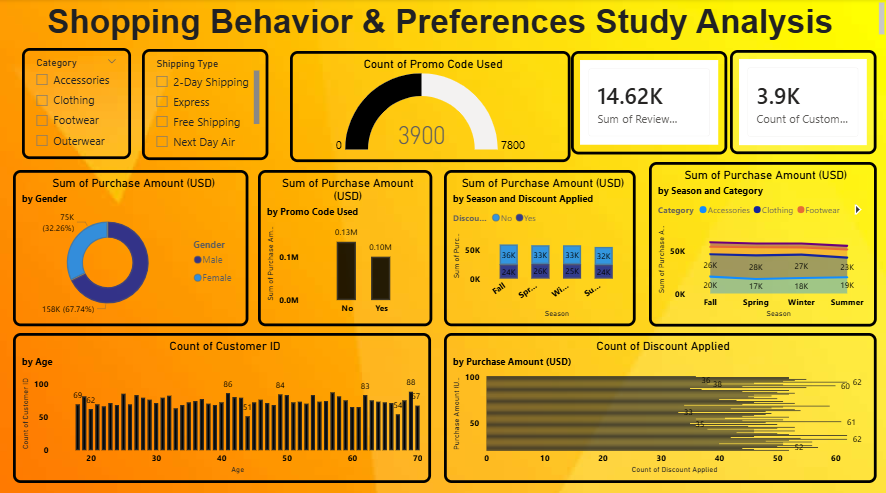

This screenshot's page, from the dashboard's own definition file:
{"tool":"powerbi","page":{"name":"Page 1","canvas":[1280,720],"ordinal":0},"visuals":[{"type":"textbox","box":[0,0,1280,73.5],"z":0},{"type":"cardVisual","fields":{"Data":["CountNonNull(shopping.Customer ID)"]},"box":[1053.1,73.5,210.9,150.2],"z":1000},{"type":"cardVisual","fields":{"Data":["Sum(shopping.Review Rating)"]},"box":[823,75.1,225.3,148.6],"z":2000},{"type":"columnChart","fields":{"Category":["shopping.Age"],"Y":["CountNonNull(shopping.Customer ID)"]},"box":[20.8,481,602.4,215.7],"z":3000},{"type":"donutChart","fields":{"Category":["shopping.Gender"],"Y":["Sum(shopping.Purchase Amount (USD))"]},"box":[20.8,246.1,338.8,225.3],"z":3001},{"type":"barChart","fields":{"Y":["CountNonNull(shopping.Discount Applied)"],"Category":["shopping.Purchase Amount (USD)"]},"box":[640.8,481,623.2,215.7],"z":3002},{"type":"columnChart","fields":{"Category":["shopping.Promo Code Used"],"Y":["Sum(shopping.Purchase Amount (USD))"]},"box":[372.3,246.1,250.9,225.3],"z":3003},{"type":"stackedAreaChart","fields":{"Category":["shopping.Season"],"Y":["Sum(shopping.Purchase Amount (USD))"],"Series":["shopping.Category"]},"box":[936.4,234.9,327.6,236.5],"z":3004},{"type":"ribbonChart","fields":{"Series":["shopping.Discount Applied"],"Category":["shopping.Season"],"Y":["Sum(shopping.Purchase Amount (USD))"]},"box":[640.8,246.1,276.5,225.3],"z":3005},{"type":"slicer","fields":{"Values":["shopping.Category"]},"box":[33.6,70.3,156.6,159.8],"z":3006},{"type":"gauge","fields":{"Y":["CountNonNull(shopping.Promo Code Used)"]},"box":[418.7,75.1,404.3,159.8],"z":3007},{"type":"slicer","fields":{"Values":["shopping.Shipping Type"]},"box":[206.1,71.9,182.2,159.8],"z":3008}]}

Visuals, with their boxes in screenshot pixels (x1, y1, x2, y2), scaled from the page's 1280x720 canvas onto the 886x493 screenshot:
textbox: (0, 0, 885, 50)
cardVisual - CountNonNull(shopping.Customer ID): (729, 50, 875, 153)
cardVisual - Sum(shopping.Review Rating): (570, 51, 726, 153)
columnChart - shopping.Age x CountNonNull(shopping.Customer ID): (14, 329, 431, 477)
donutChart - shopping.Gender x Sum(shopping.Purchase Amount (USD)): (14, 169, 249, 323)
barChart - CountNonNull(shopping.Discount Applied) x shopping.Purchase Amount (USD): (444, 329, 875, 477)
columnChart - shopping.Promo Code Used x Sum(shopping.Purchase Amount (USD)): (258, 169, 431, 323)
stackedAreaChart - shopping.Season x Sum(shopping.Purchase Amount (USD)): (648, 161, 875, 323)
ribbonChart - shopping.Discount Applied x shopping.Season: (444, 169, 635, 323)
slicer - shopping.Category: (23, 48, 132, 158)
gauge - CountNonNull(shopping.Promo Code Used): (290, 51, 570, 161)
slicer - shopping.Shipping Type: (143, 49, 269, 159)
